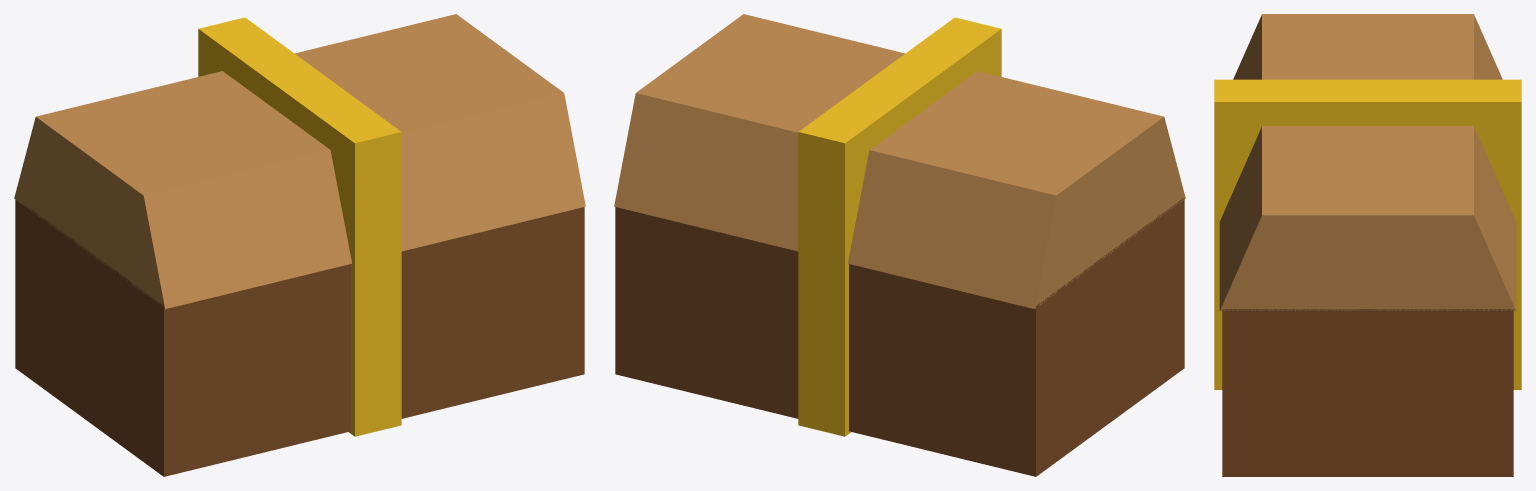
The model's file is treasure_chest.glb.
3 renders of one model, left to right at view 1: azimuth 30°, elevation 25°; view 2: azimuth 150°, elevation 25°; view 3: azimuth 270°, elevation 25°, orthographic.
Visible parts, largest first — view 1: treasure_chest; view 2: treasure_chest; view 3: treasure_chest.
Part boxes in pixels (x1,y1,x2,y2): treasure_chest: [14, 14, 585, 476]; treasure_chest: [614, 14, 1185, 476]; treasure_chest: [1214, 14, 1521, 476].
Bounding box in the file's own units: 0.9 × 0.6 × 0.58.
